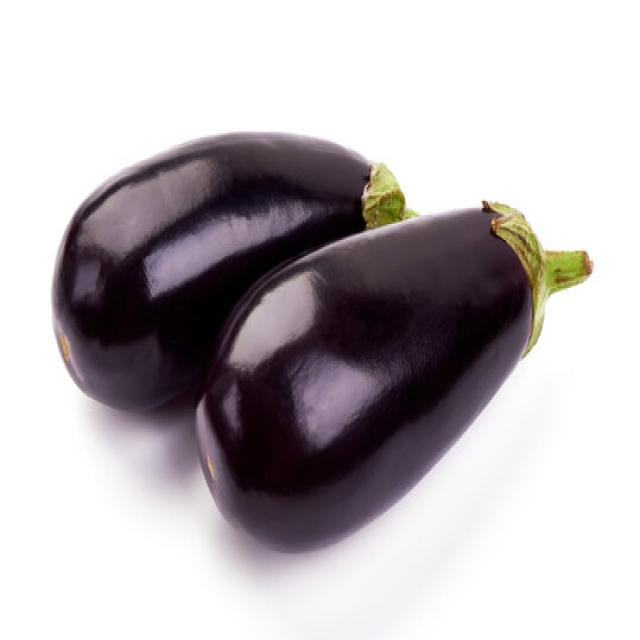Eggplant: (193, 197, 592, 553), (50, 128, 414, 414)
